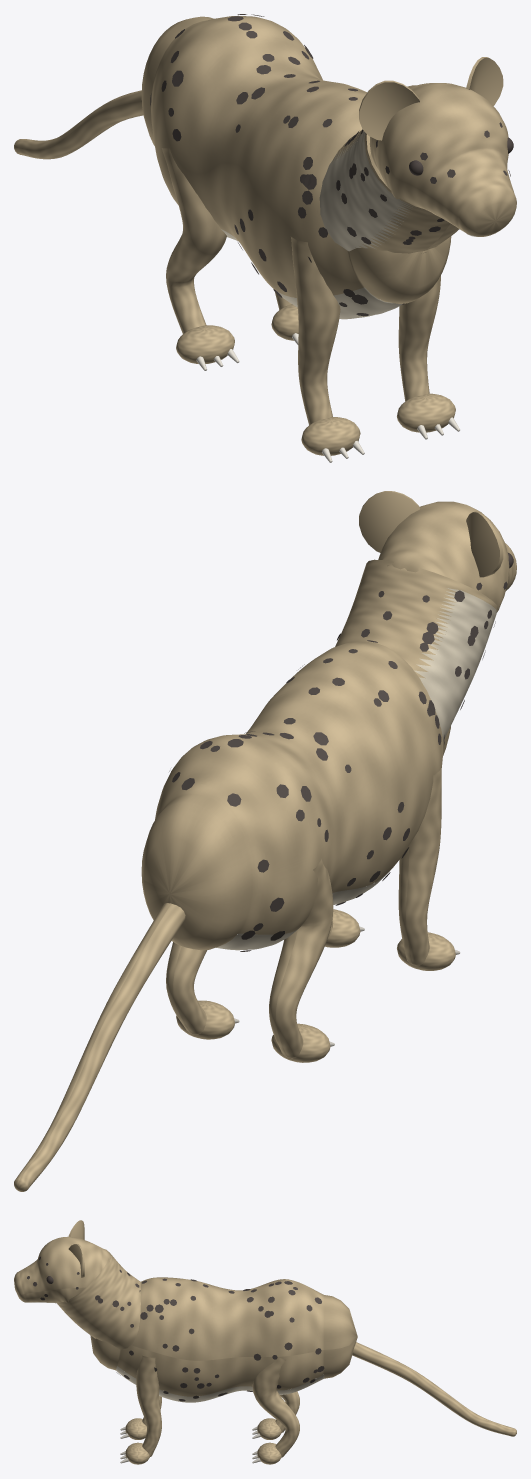
The model's file is exotic-wildlife-hd-lion-cub-b56551f3__30198.glb.
3 renders of one model, top to bottom at view 1: azimuth 30°, elevation 25°; view 2: azimuth 150°, elevation 25°; view 3: azimuth 270°, elevation 25°, orthographic. The views are drawn at different scales.
Parts seen in each view (by area): view 1: lion-cub; view 2: lion-cub; view 3: lion-cub.
Part boxes in pixels (box(x1,y1,x2,y2)): lion-cub: box(14, 14, 516, 462); lion-cub: box(14, 491, 516, 1191); lion-cub: box(14, 1220, 516, 1464).
Size of the model in its own units: 0.2304 by 0.5887 by 1.24.
Materials: 6 (3 with a texture image).
